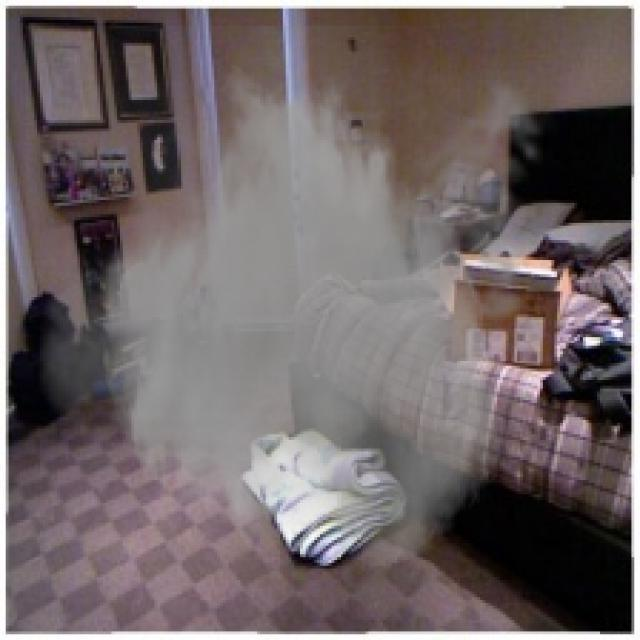Smoke: (26, 26, 560, 572)
